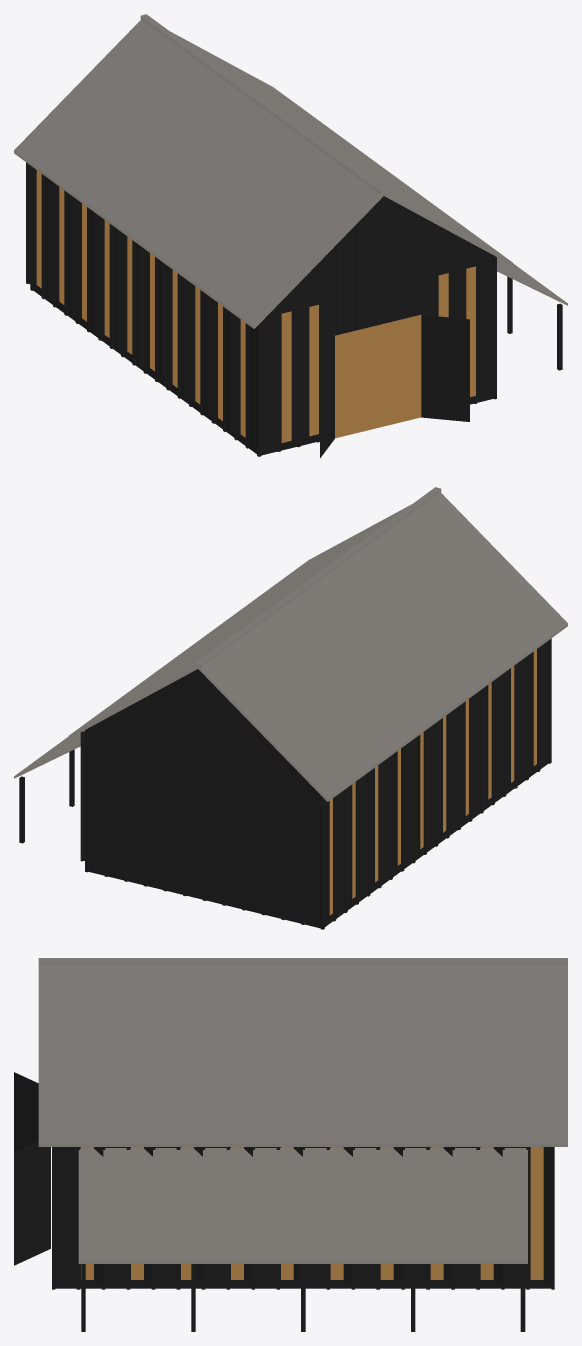
File: Blender_TobaccoBarn_1.glb
3 renders of one model, top to bottom at view 1: azimuth 30°, elevation 25°; view 2: azimuth 150°, elevation 25°; view 3: azimuth 270°, elevation 25°, orthographic. The views are drawn at different scales.
Parts seen in each view (by area): view 1: Blender_TobaccoBarn_1; view 2: Blender_TobaccoBarn_1; view 3: Blender_TobaccoBarn_1.
Boxes of the visible parts, <box> form: Blender_TobaccoBarn_1: <box>14,14,567,458</box>; Blender_TobaccoBarn_1: <box>14,487,567,929</box>; Blender_TobaccoBarn_1: <box>14,958,567,1331</box>.
Bounding box in the file's own units: 16.9 × 11.75 × 22.19.
